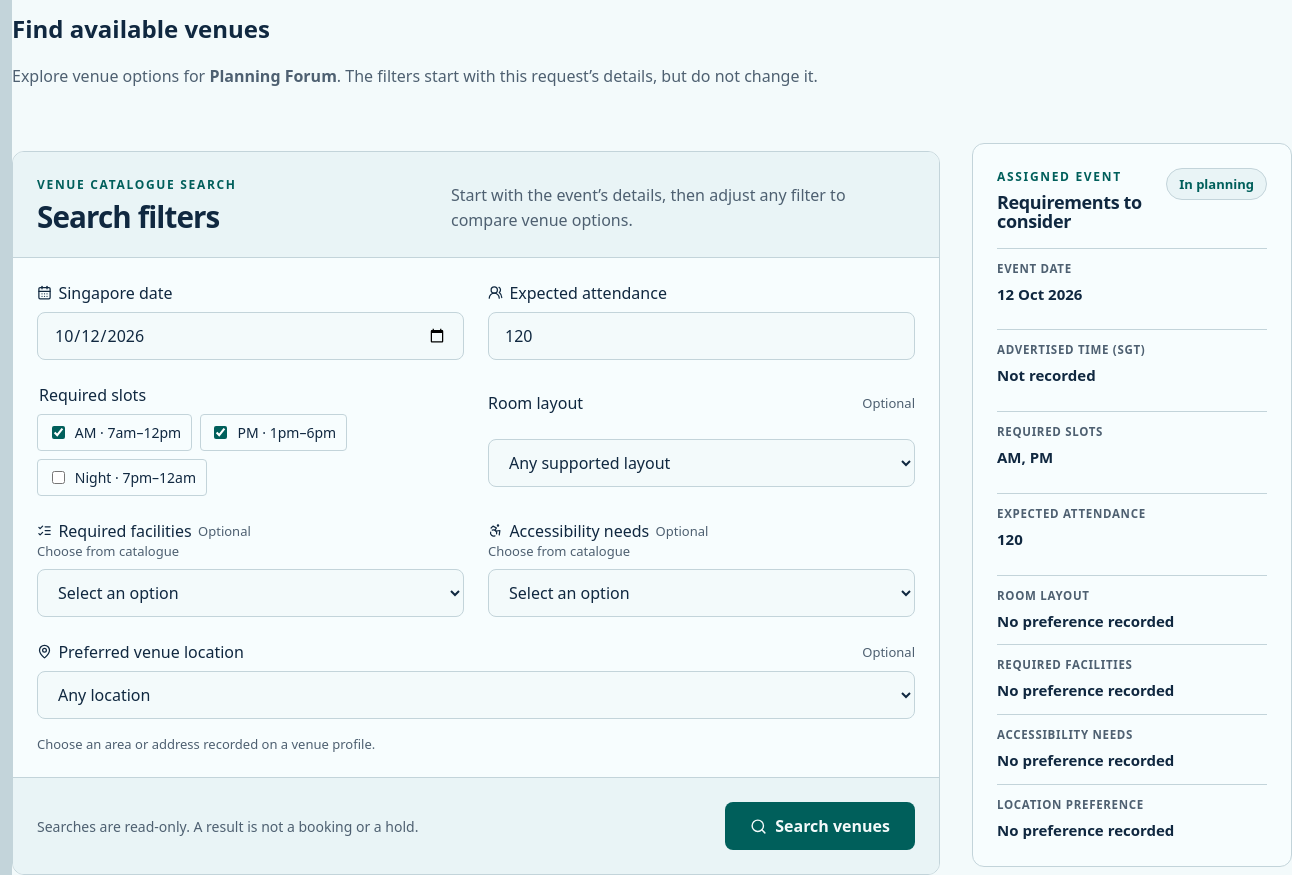
Test case: [TC-SPL-74-03] searches with all optional requirements missing
The image size is (1292, 875).
(page scrolled)
Expected: the dropdown labelled "Room layout" shows "Any supported layout", [488, 439, 915, 487]
Expected: the dropdown labelled "Preferred venue location" shows "Any location", [37, 671, 915, 719]
Click the button "Search venues": (820, 826) [725, 802, 915, 850]
(page scrolled)
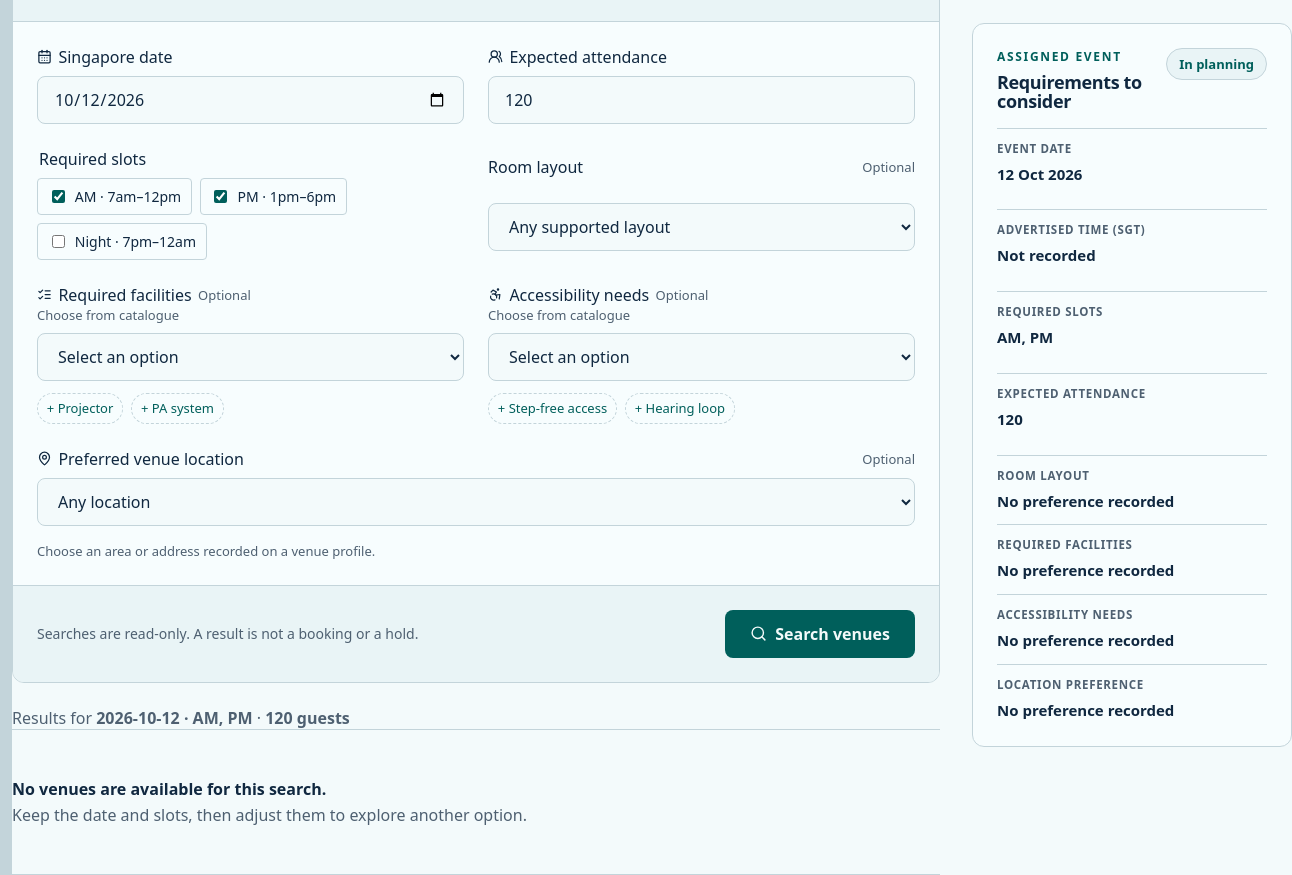
Expected: the text "No venues are available for this search." is shown, [12, 778, 326, 800]
